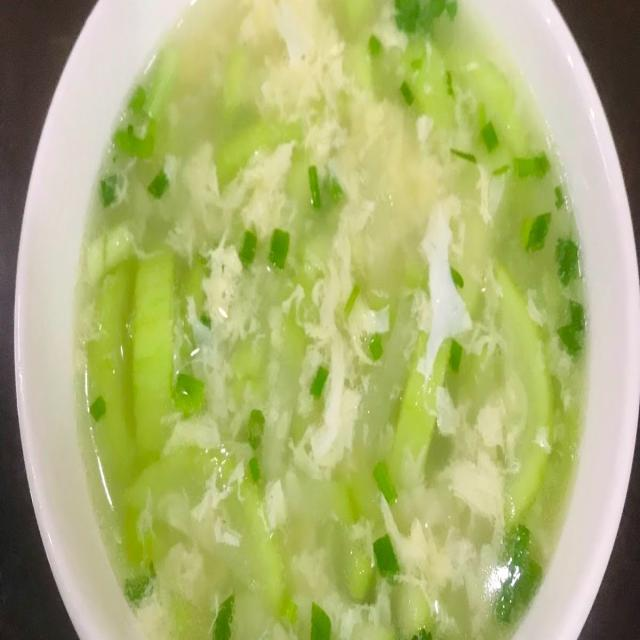canh bau: (71, 0, 591, 639)
